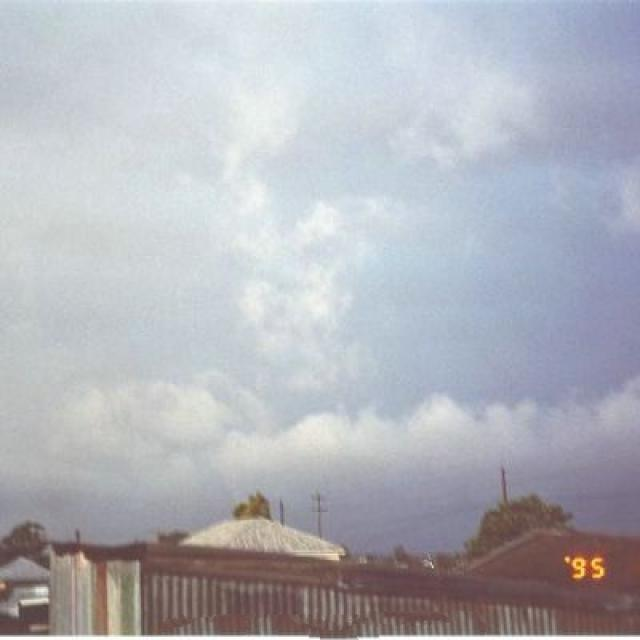St: (1, 6, 640, 449)
